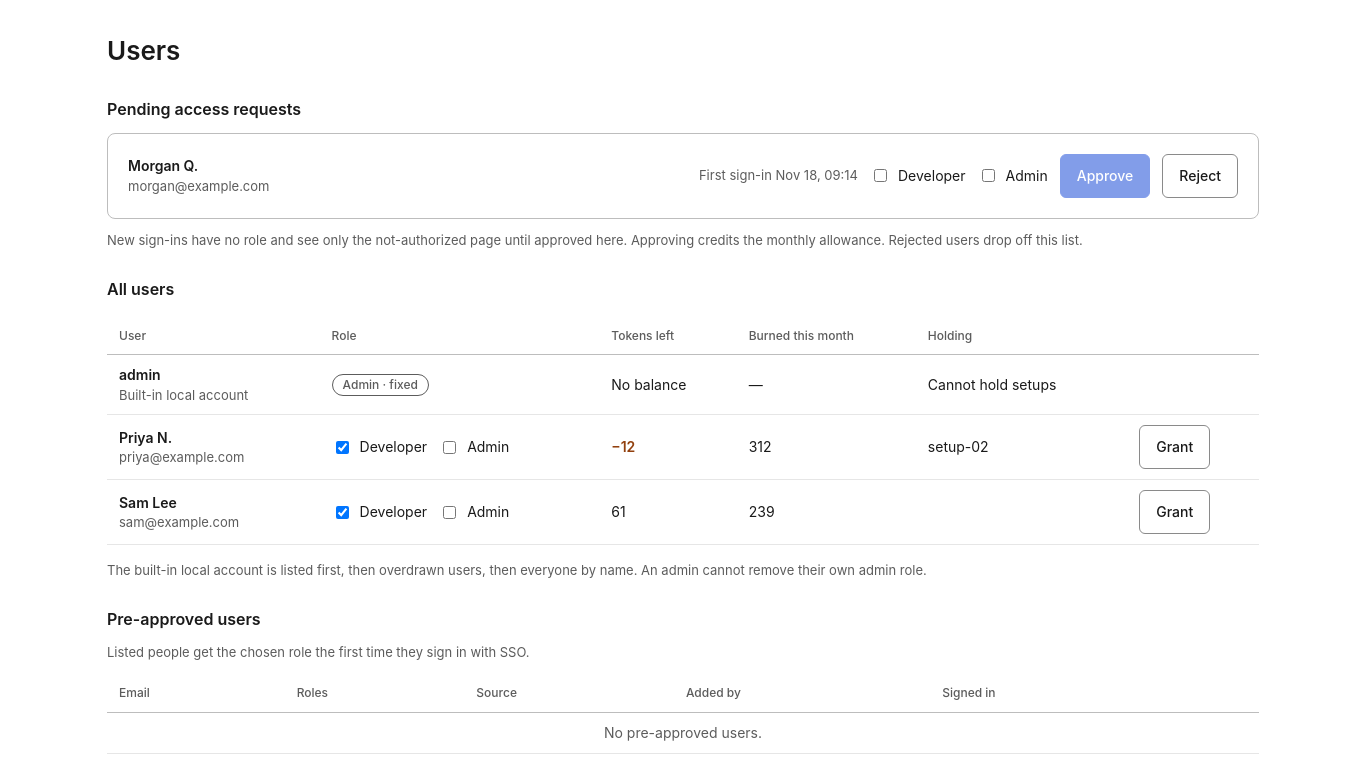
Test: ADM-1 role changes › shows local_admin_protected on approve
What coordinates should you click on to do the following:
click the checkbox labelled "Admin" in the row of "Nov 18, 09:14"
I would click on:
 (988, 176)
Its box is [982,169,994,182].
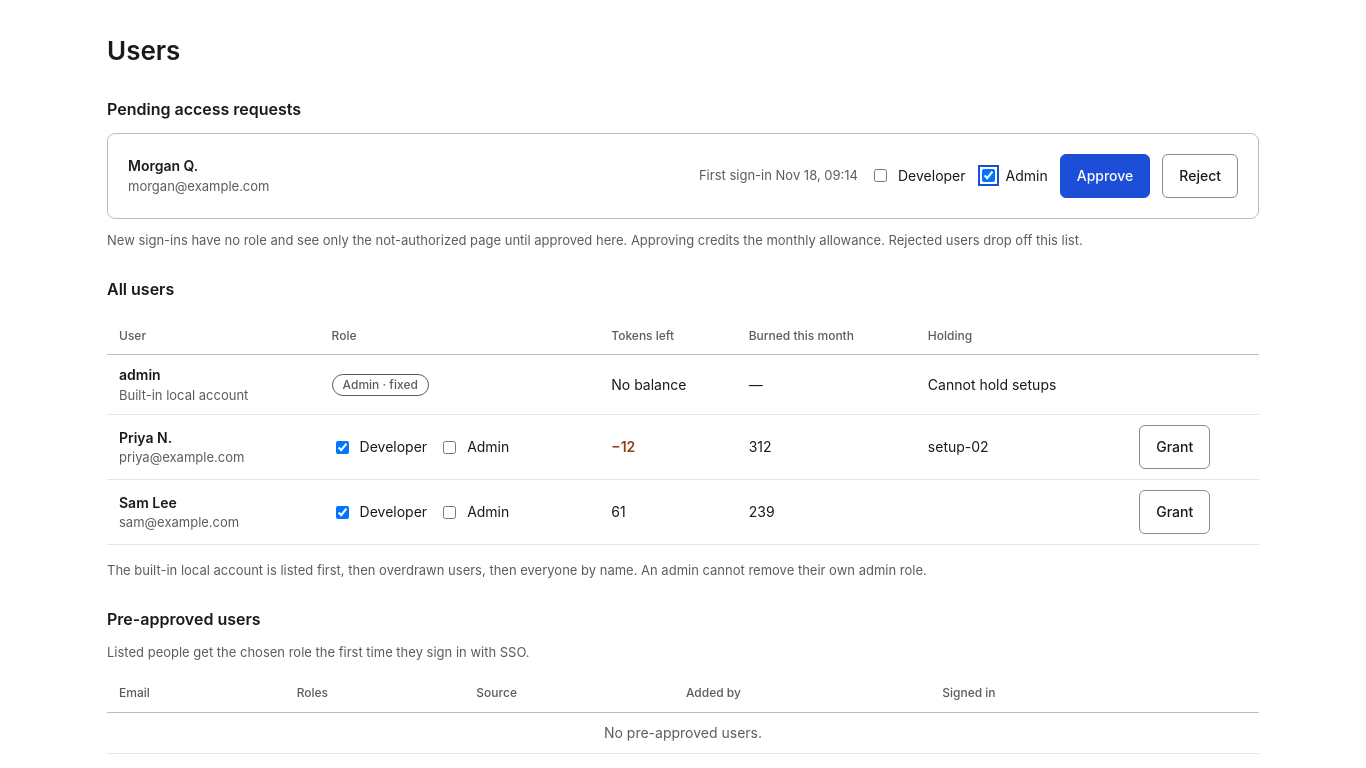
What coordinates should you click on to do the following:
click the button with aria-label "Approve Morgan Q."
I would click on:
 (1105, 176)
Its box is [1060,154,1150,198].
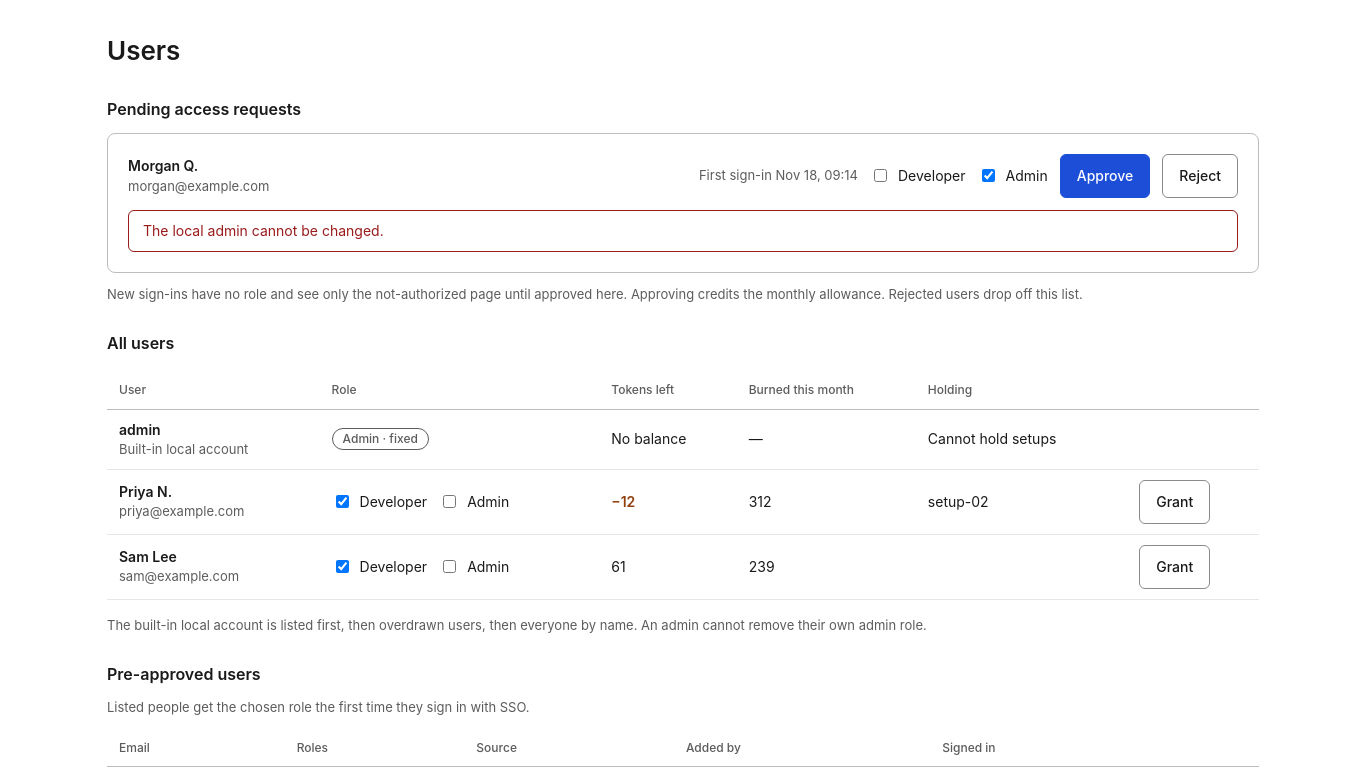
Expected: the text "The local admin cannot be changed." is shown, [128,210,1238,252]
